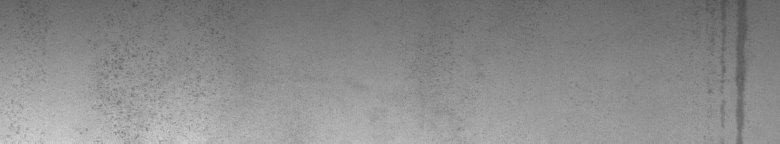ib: (92, 4, 224, 136)
